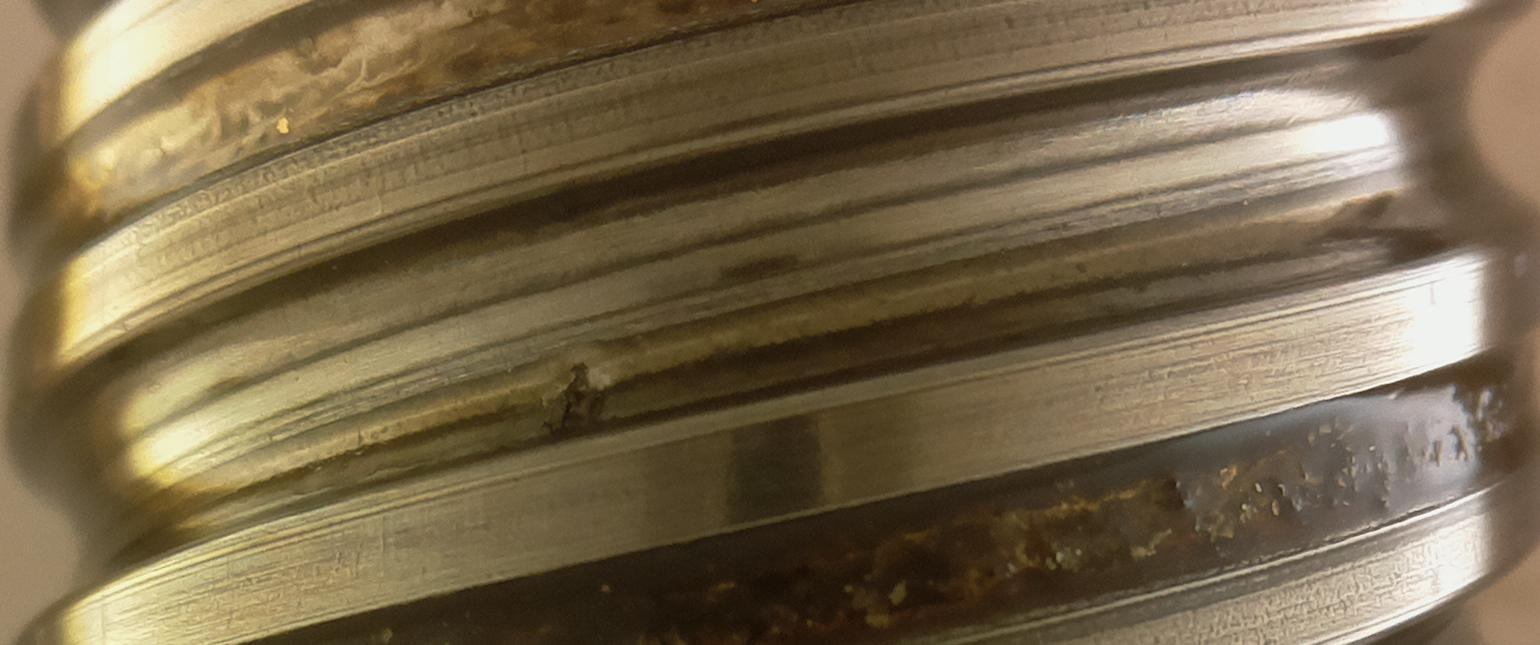pitting: (543, 361, 619, 441)
